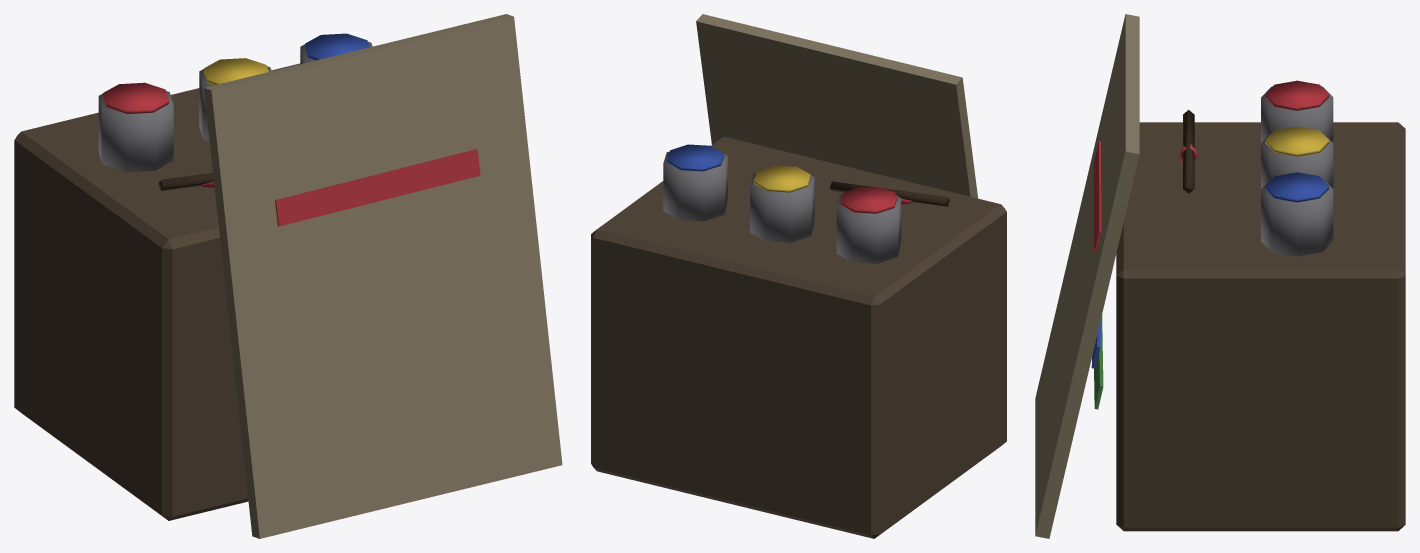
The model's file is paint_corner.glb.
3 renders of one model, left to right at view 1: azimuth 30°, elevation 25°; view 2: azimuth 150°, elevation 25°; view 3: azimuth 270°, elevation 25°, orthographic. The views are drawn at different scales.
Visible parts, largest first — view 1: paint_corner; view 2: paint_corner; view 3: paint_corner.
Boxes of the visible parts, x1,y1,x2,y2 form: paint_corner: [14, 14, 562, 538]; paint_corner: [591, 14, 1006, 538]; paint_corner: [1035, 14, 1405, 538].
Size of the model in its own units: 0.525 by 0.5955 by 0.5122.
